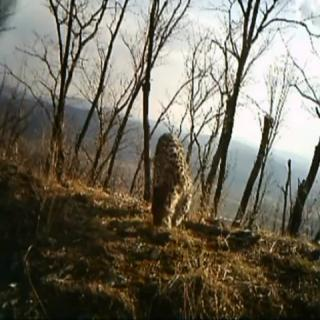Leopard: (132, 128, 209, 245)
